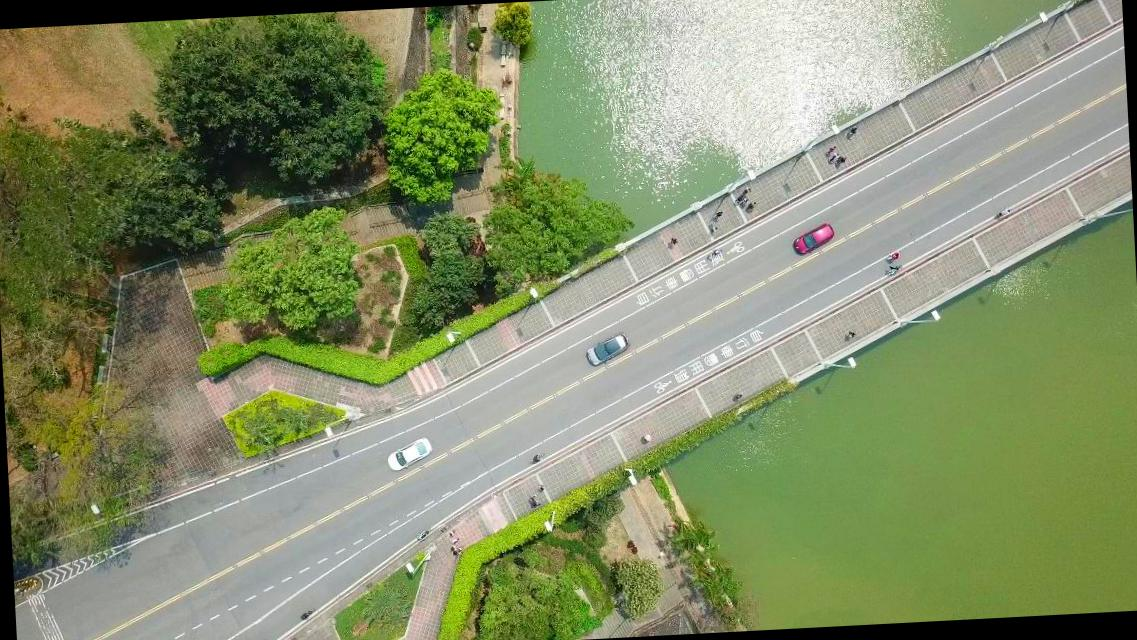vehicle: (384, 436, 433, 472), (582, 331, 630, 367), (791, 223, 835, 256)
